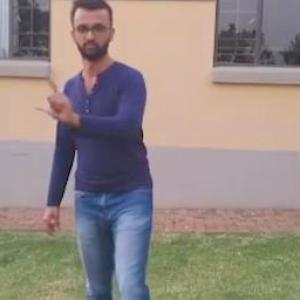land_hand: (30, 66, 92, 128)
